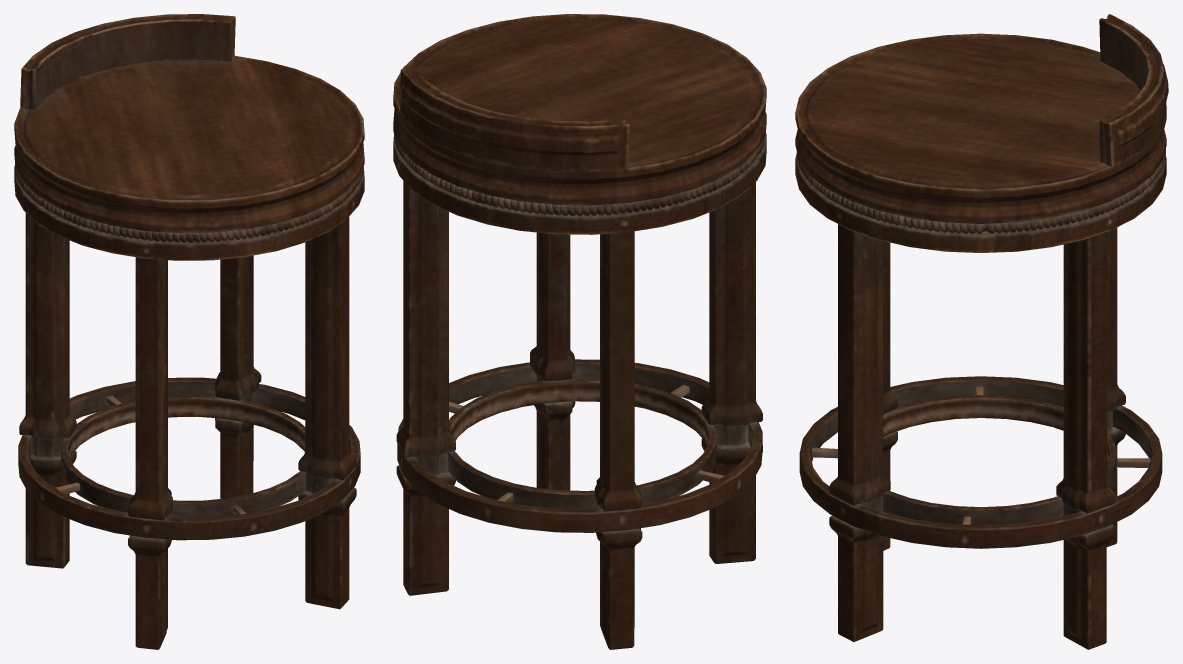
File: bar_chair_round_01.glb
3 views of the same model, side by side, from view 1: azimuth 30°, elevation 25°; view 2: azimuth 150°, elevation 25°; view 3: azimuth 270°, elevation 25° (orthographic). The views are drawn at different scales.
Parts seen in each view (by area): view 1: bar_chair_round_01; view 2: bar_chair_round_01; view 3: bar_chair_round_01.
Boxes of the visible parts, x1,y1,x2,y2 form: bar_chair_round_01: (14, 14, 364, 649); bar_chair_round_01: (393, 14, 766, 649); bar_chair_round_01: (795, 14, 1168, 649).
Size of the model in its own units: 0.4833 by 0.7505 by 0.4858.
1 material, 1 textured.
